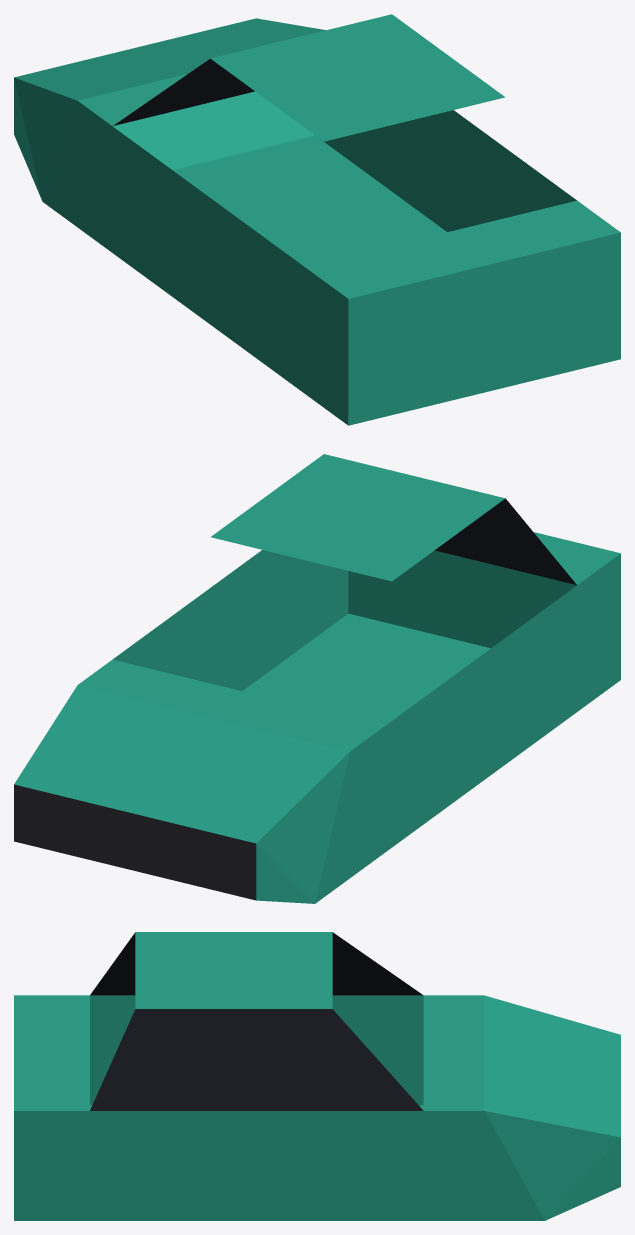
Rendered from car.obj.
3 views of the same model, one above another, from view 1: azimuth 30°, elevation 25°; view 2: azimuth 150°, elevation 25°; view 3: azimuth 270°, elevation 25° (orthographic). The views are drawn at different scales.
Size of the model in its own units: 0.9 by 0.7 by 2.
